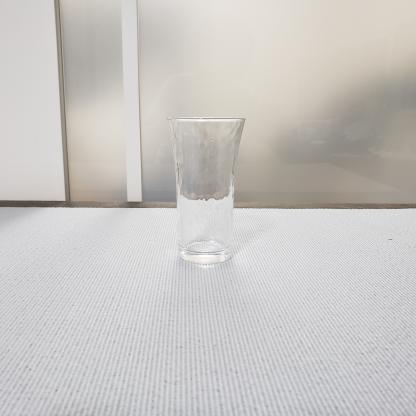glass: (162, 105, 258, 266)
